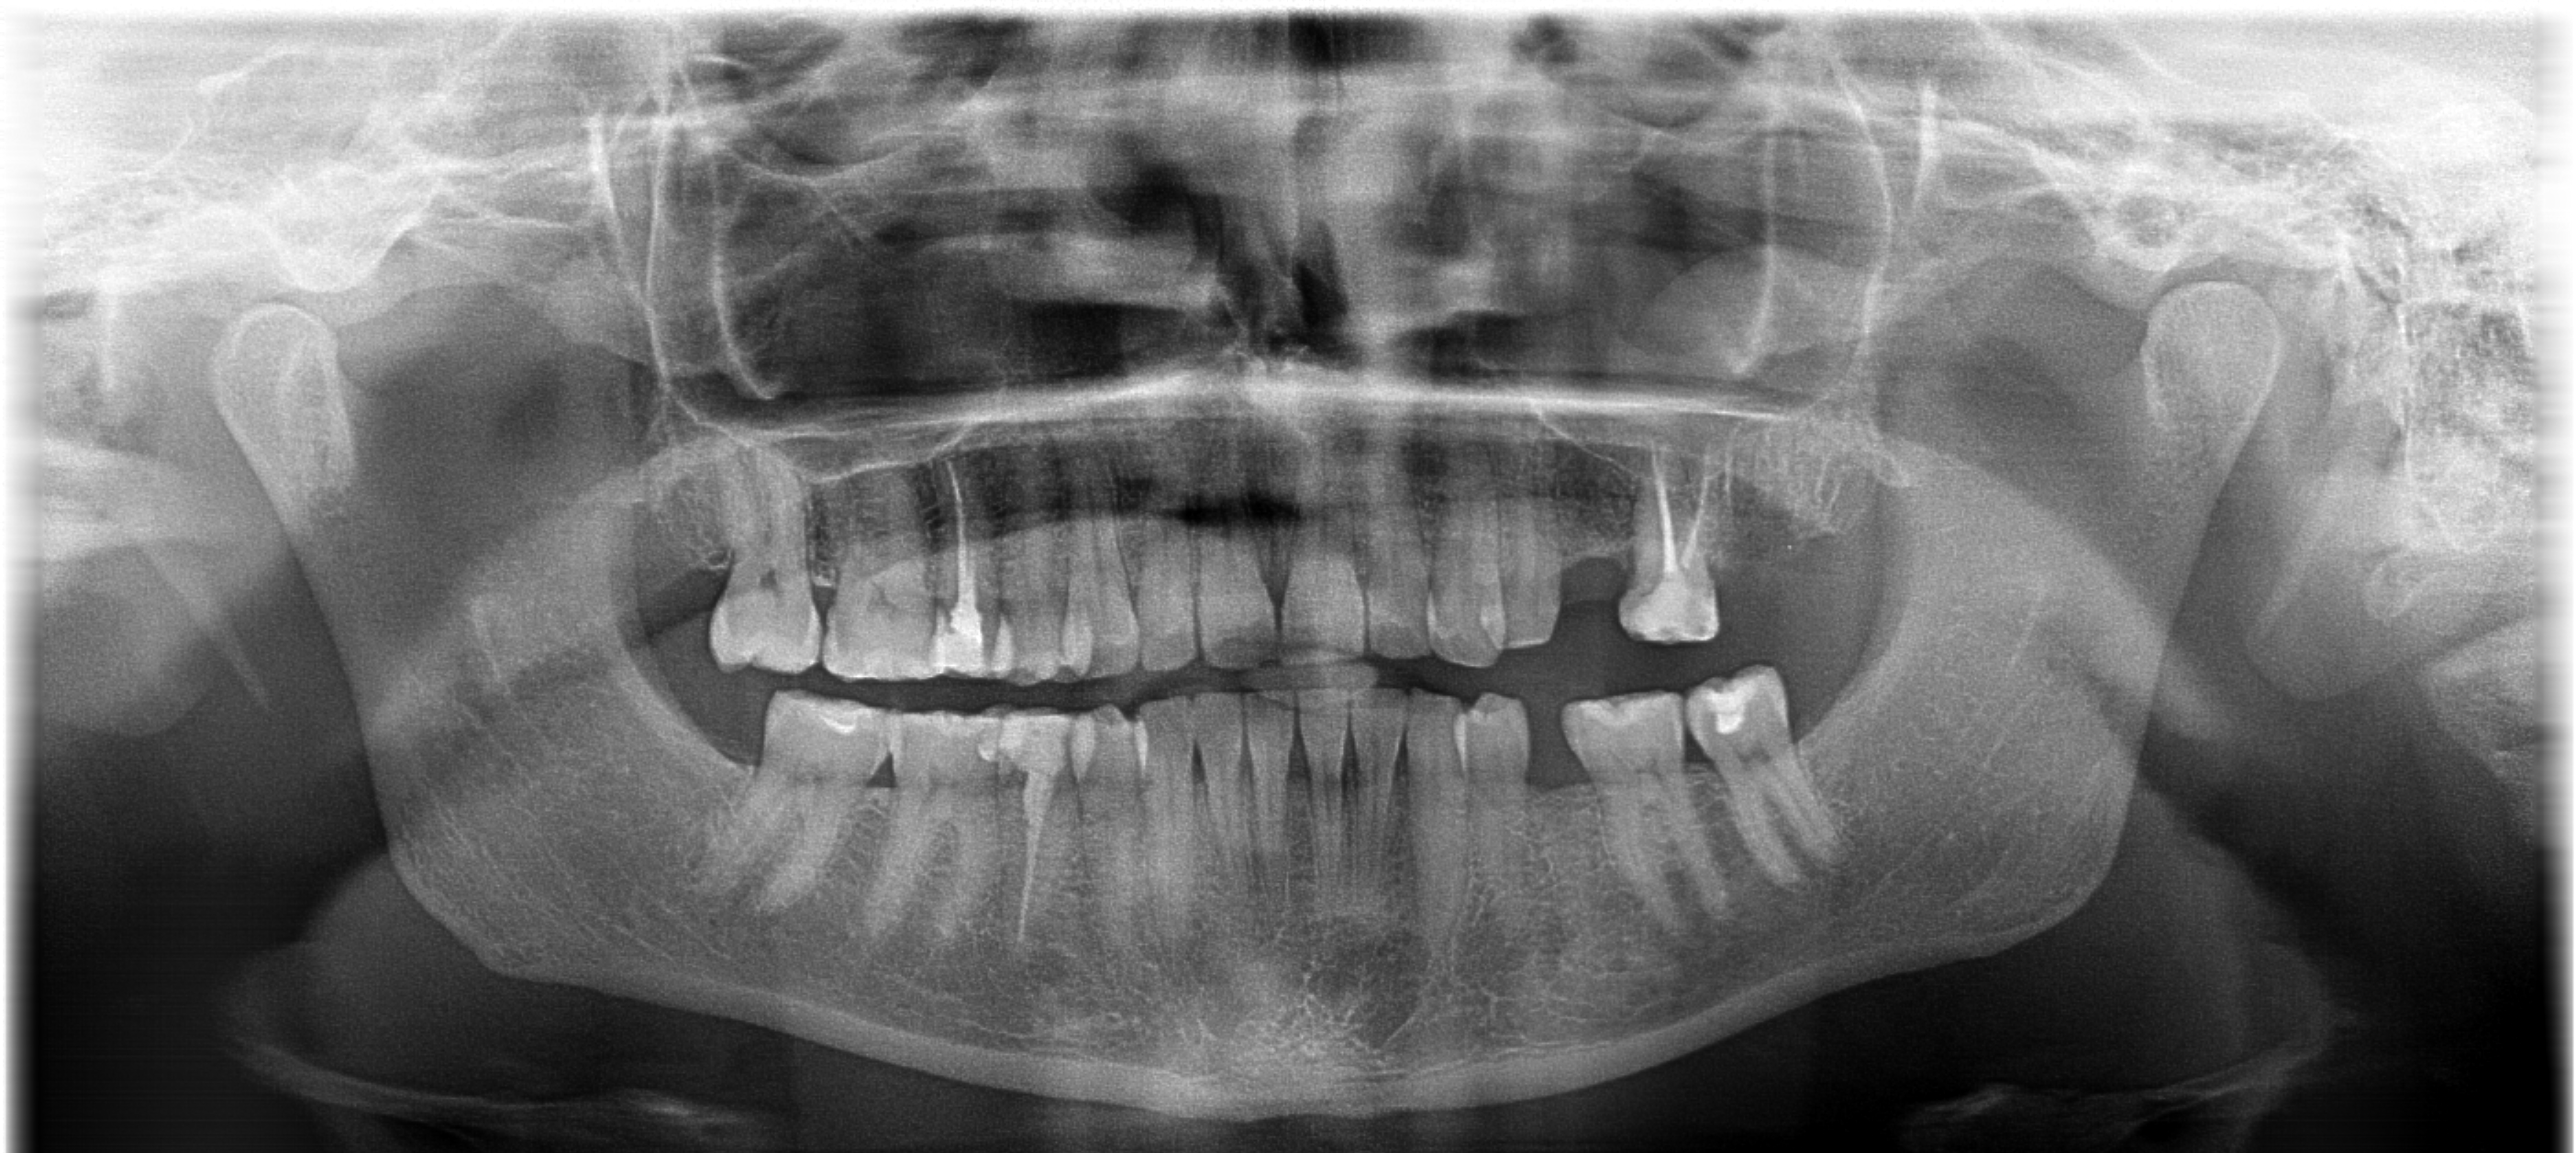tratamiento_conducto: (895, 434, 1030, 701), (976, 693, 1109, 961)
zona_dentula: (1525, 445, 1661, 664), (1483, 680, 1620, 898)
